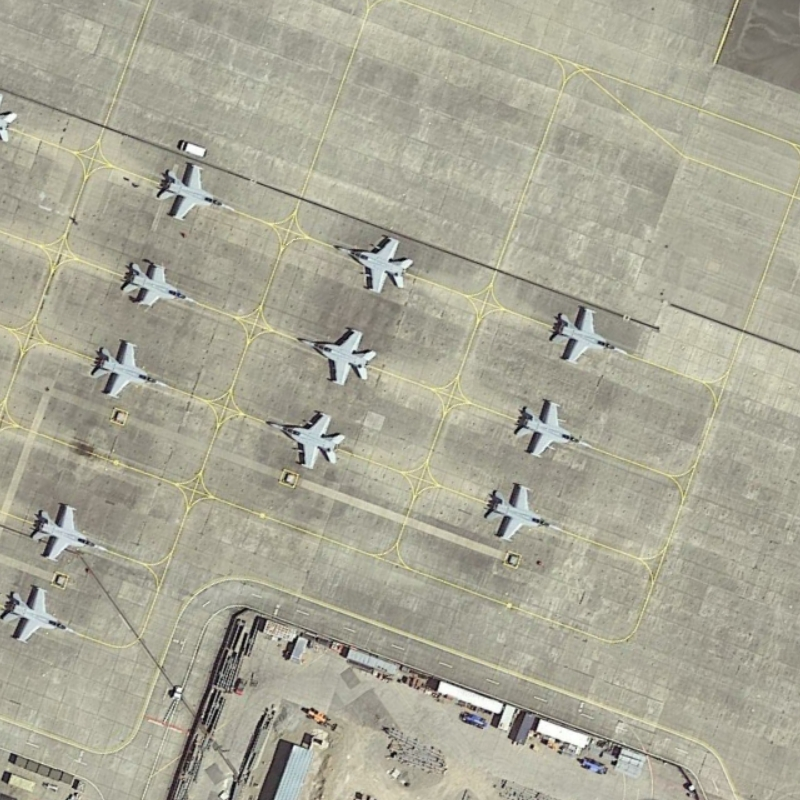A16: (543, 294, 633, 373), (258, 403, 355, 475), (290, 319, 380, 393), (505, 388, 592, 463), (25, 496, 115, 567), (328, 230, 420, 299), (86, 331, 171, 405), (475, 477, 564, 547), (150, 153, 235, 225), (1, 575, 80, 652), (111, 252, 197, 318)
